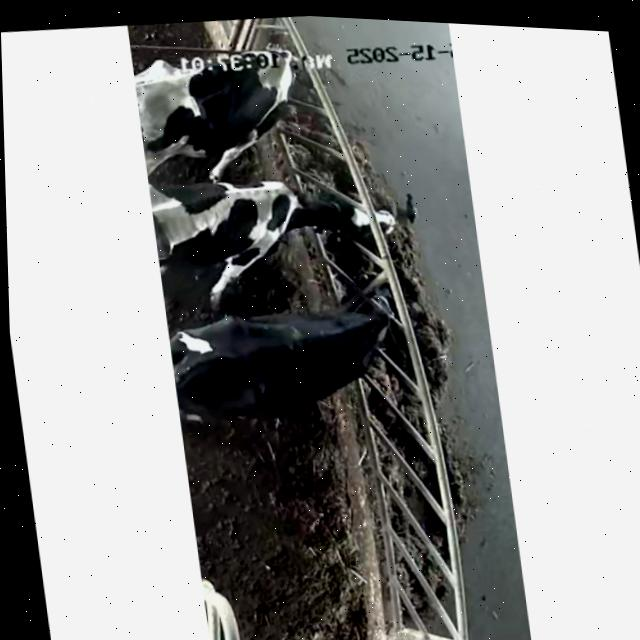eat: (233, 156, 430, 268), (200, 18, 352, 140), (286, 270, 440, 384)
